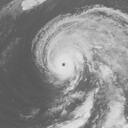cyclone: (32, 14, 93, 86)
